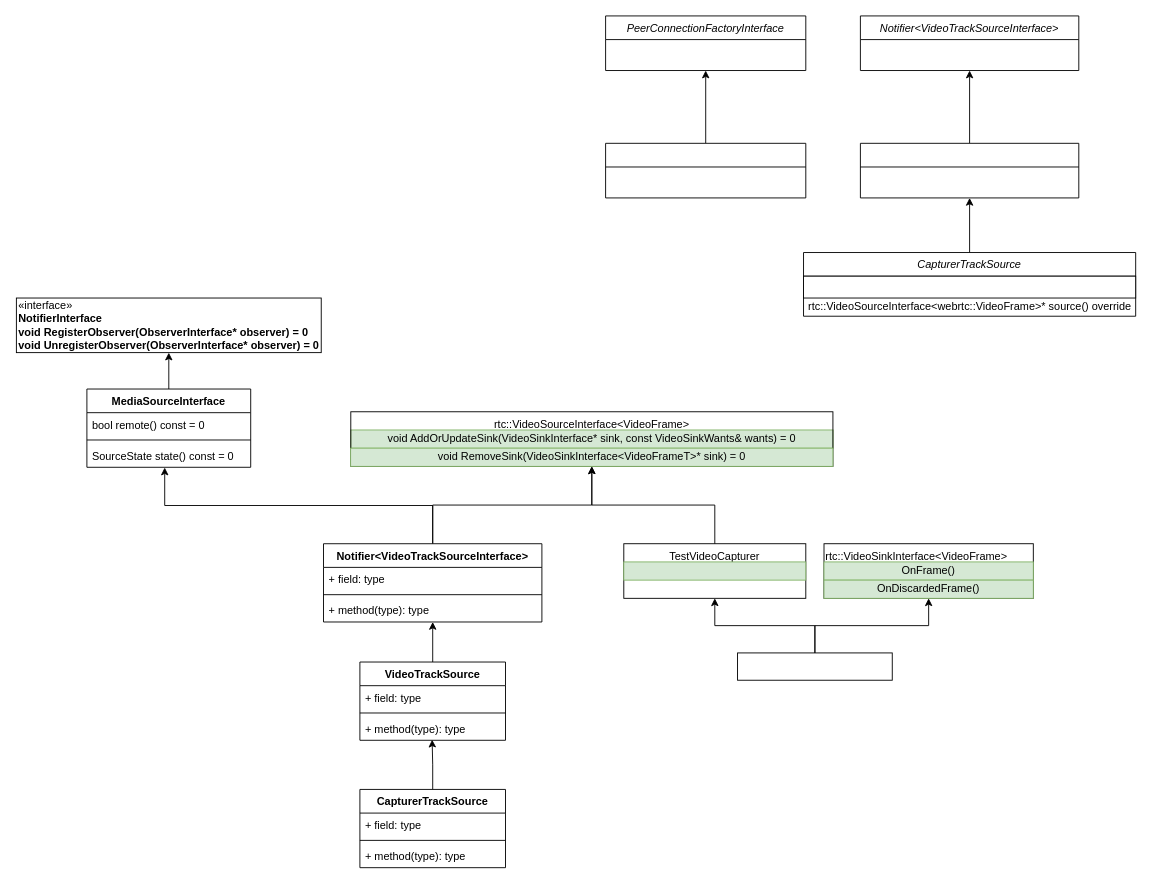
The diagram is 1151 pixels wide and 886 high, and some of its shapes have lost their labels. Each missing label, with the centre of its shape:
PeerConnectionFactory: (x=705, y=170)
rtc::VideoBroadcaster broadcaster_: (x=714, y=570)
static rtc::scoped_refptr<CapturerTrackSource> Create(): (x=969, y=286)
webrtc::test::VcmCapturer: (x=814, y=666)
webrtc::VideoTrackSource: (x=969, y=170)
